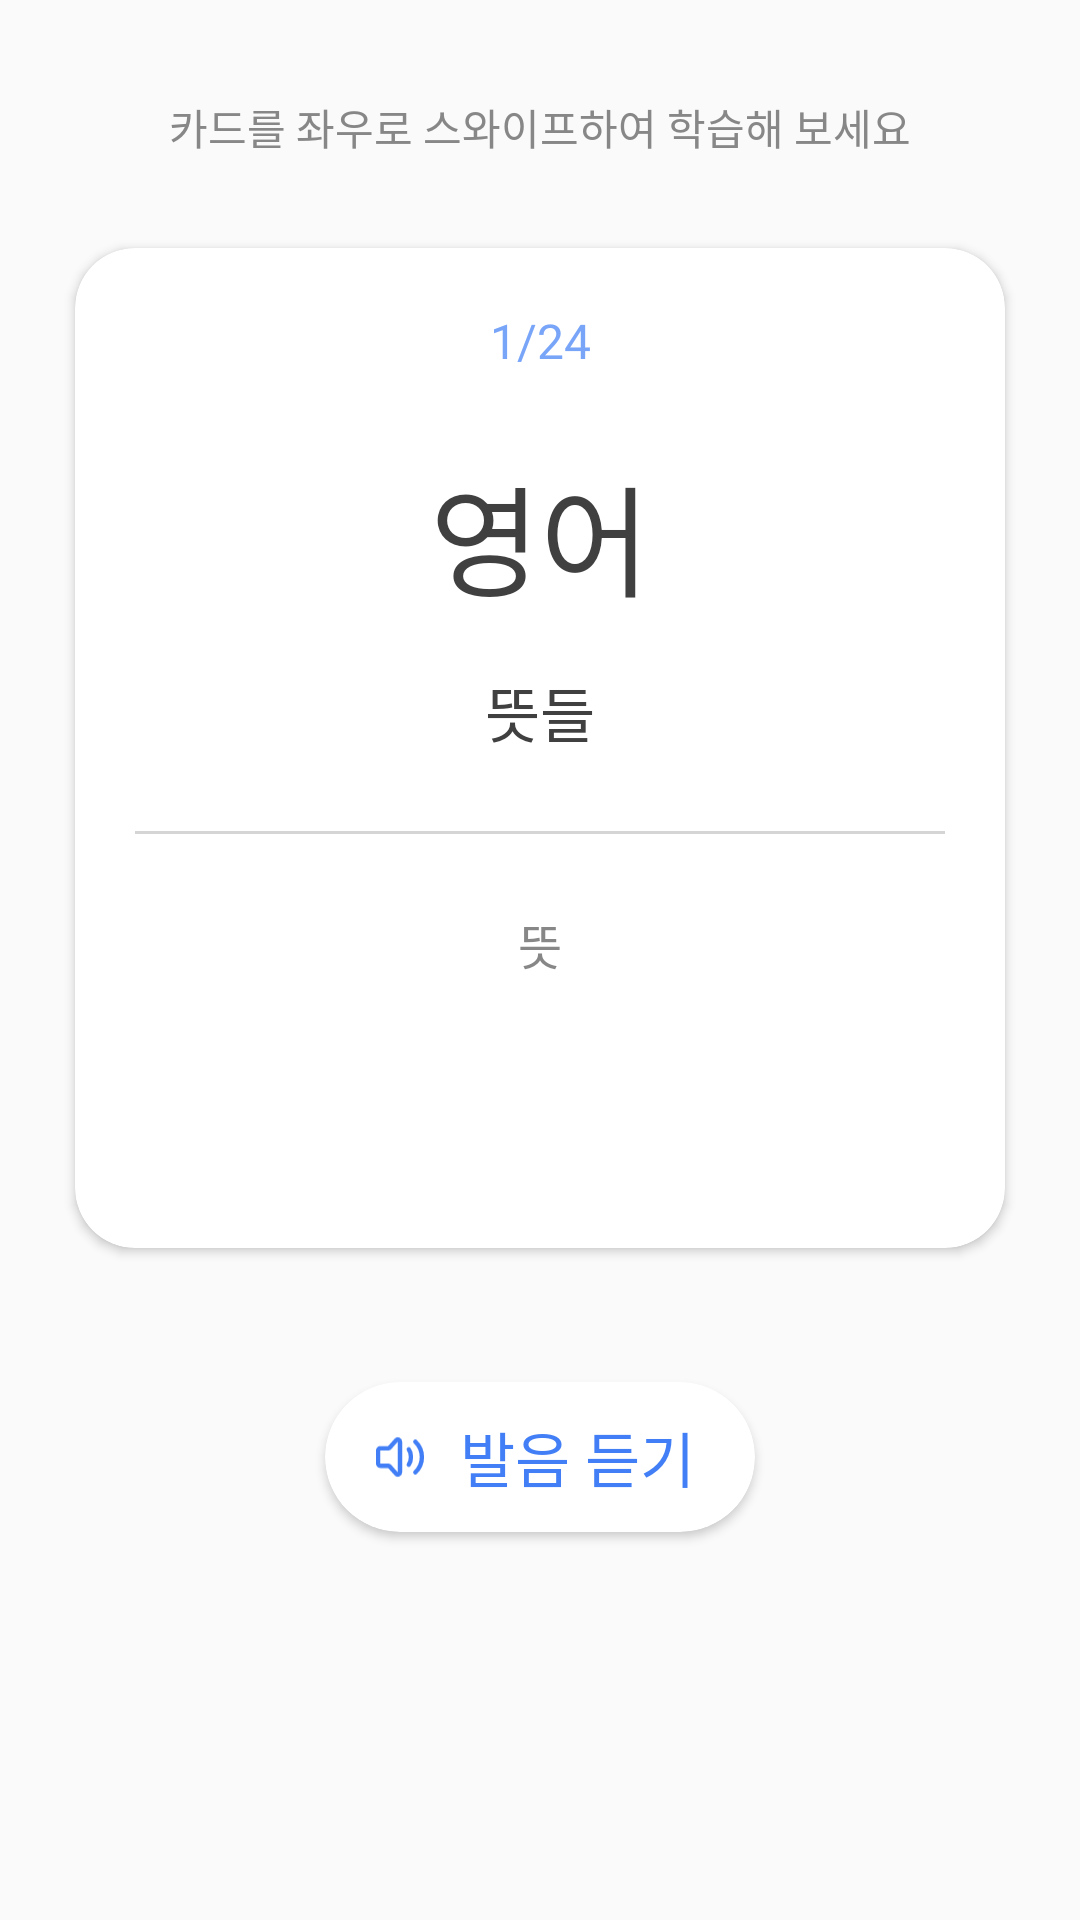

Where to tap for icons on this 1080*1920 app screen, as point (x, y):
listen: point (400, 1457)
